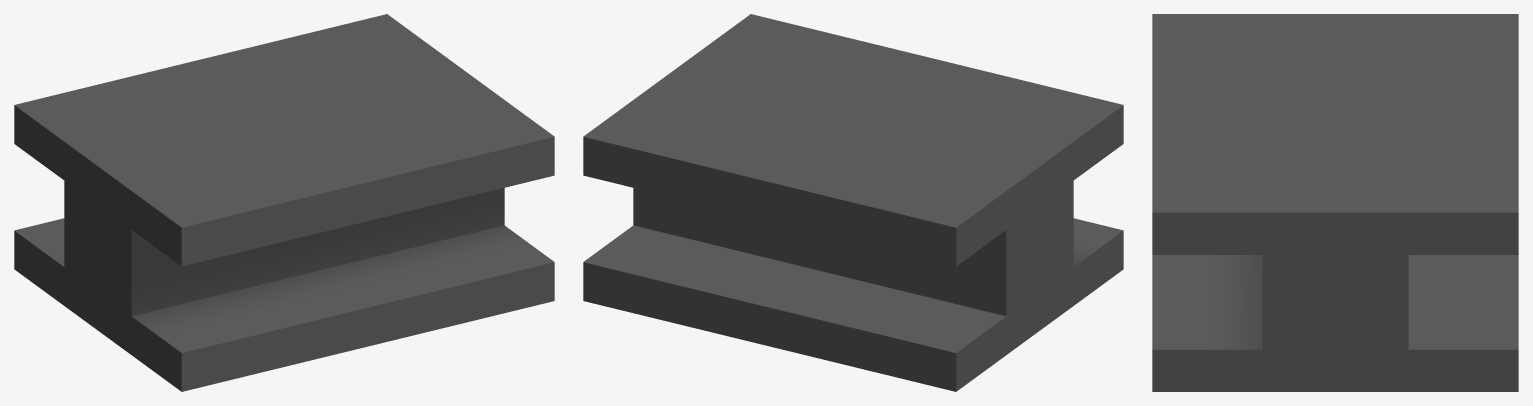
Rendered from TuriyukaM (1).fbx.
3 renders of one model, left to right at view 1: azimuth 30°, elevation 25°; view 2: azimuth 150°, elevation 25°; view 3: azimuth 270°, elevation 25°, orthographic. The views are drawn at different scales.
Visible parts, largest first — view 1: TuriyukaM; view 2: TuriyukaM; view 3: TuriyukaM.
Part boxes in pixels (left/top/right/bottom): TuriyukaM: left=14, top=14, right=554, bottom=391; TuriyukaM: left=583, top=14, right=1123, bottom=391; TuriyukaM: left=1152, top=14, right=1518, bottom=391.
Size of the model in its own units: 1.37 by 0.5768 by 1.07.
1 material, 1 textured.
